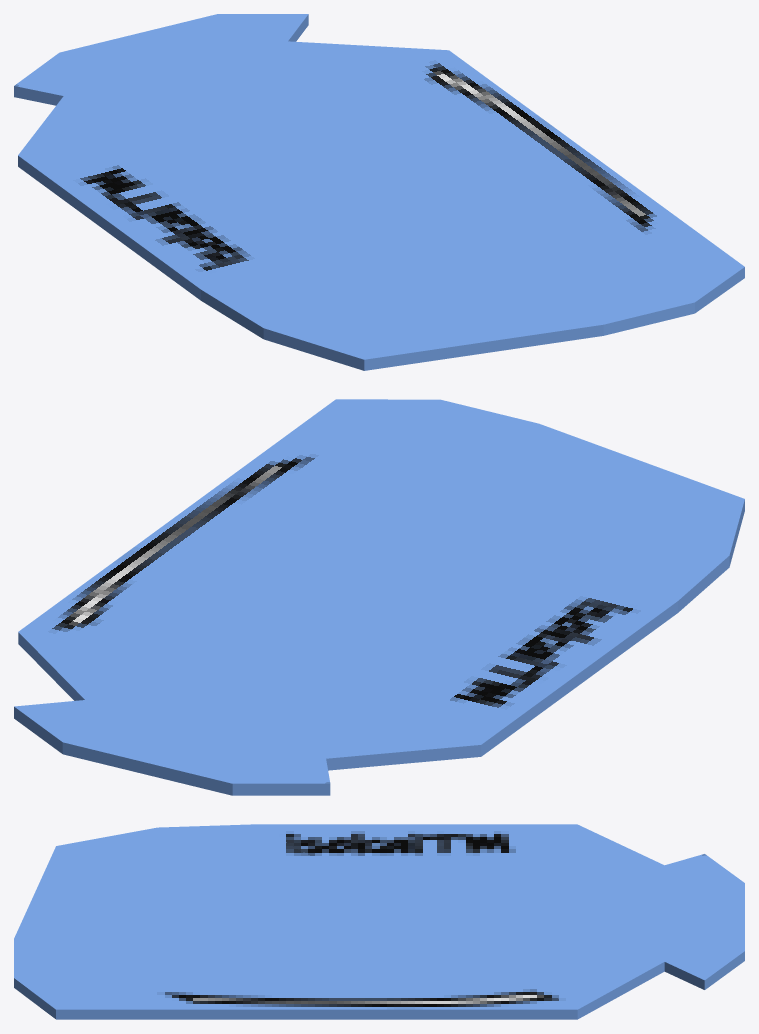
Rendered from Tabled.glb.
3 views of the same model, one above another, from view 1: azimuth 30°, elevation 25°; view 2: azimuth 150°, elevation 25°; view 3: azimuth 270°, elevation 25° (orthographic). The views are drawn at different scales.
Visible parts, largest first — view 1: Cube; view 2: Cube; view 3: Cube.
Part boxes in pixels (<box>): Cube: <box>14,14,744,370</box>; Cube: <box>14,399,744,795</box>; Cube: <box>14,824,744,1019</box>.
Size of the model in its own units: 0.6002 by 0.0149 by 1.
1 material, 1 textured.
